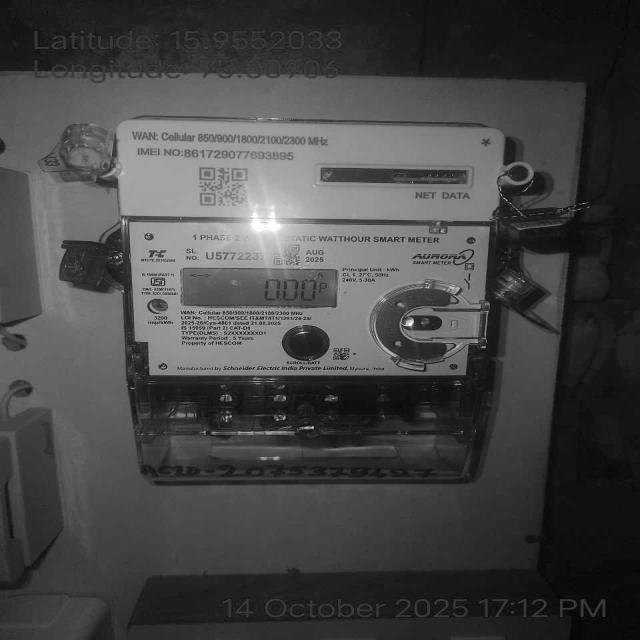meter: (118, 118, 502, 379)
